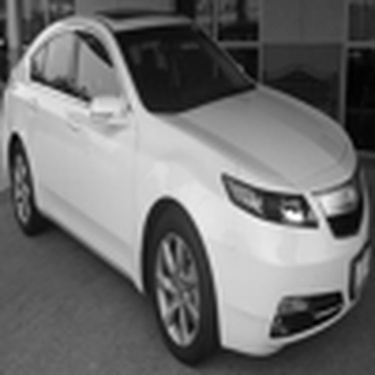car: (4, 14, 361, 349)
